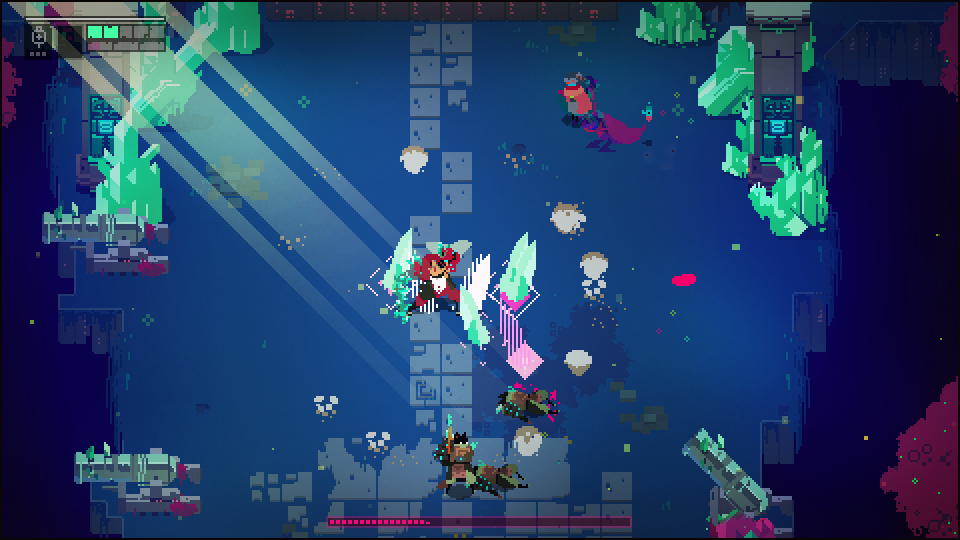hanged_crys: (502, 240, 536, 303), (497, 303, 531, 366), (457, 285, 491, 348), (383, 228, 417, 291)
hanged_man: (396, 238, 474, 322)
player: (562, 70, 592, 127)
